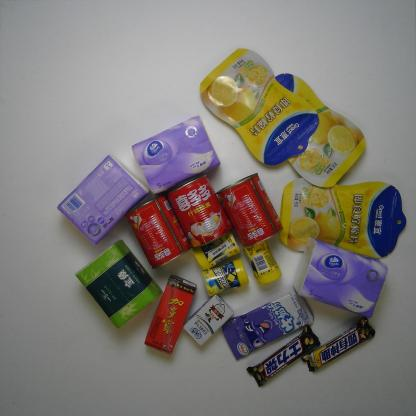Candy: (221, 288, 314, 360)
Canned Food: (214, 173, 283, 248), (166, 174, 234, 248), (126, 196, 190, 269)
Chocolate: (247, 326, 321, 385), (302, 316, 376, 372)
Dried Fruit: (197, 48, 319, 167), (270, 72, 367, 191), (278, 177, 406, 259)
Drink: (145, 275, 196, 355)
Gum: (192, 232, 240, 272), (243, 238, 282, 286), (202, 260, 250, 296)
Milk: (182, 293, 234, 347)
Tissue: (58, 154, 148, 248), (72, 239, 162, 328), (294, 235, 390, 318), (130, 115, 222, 196)
